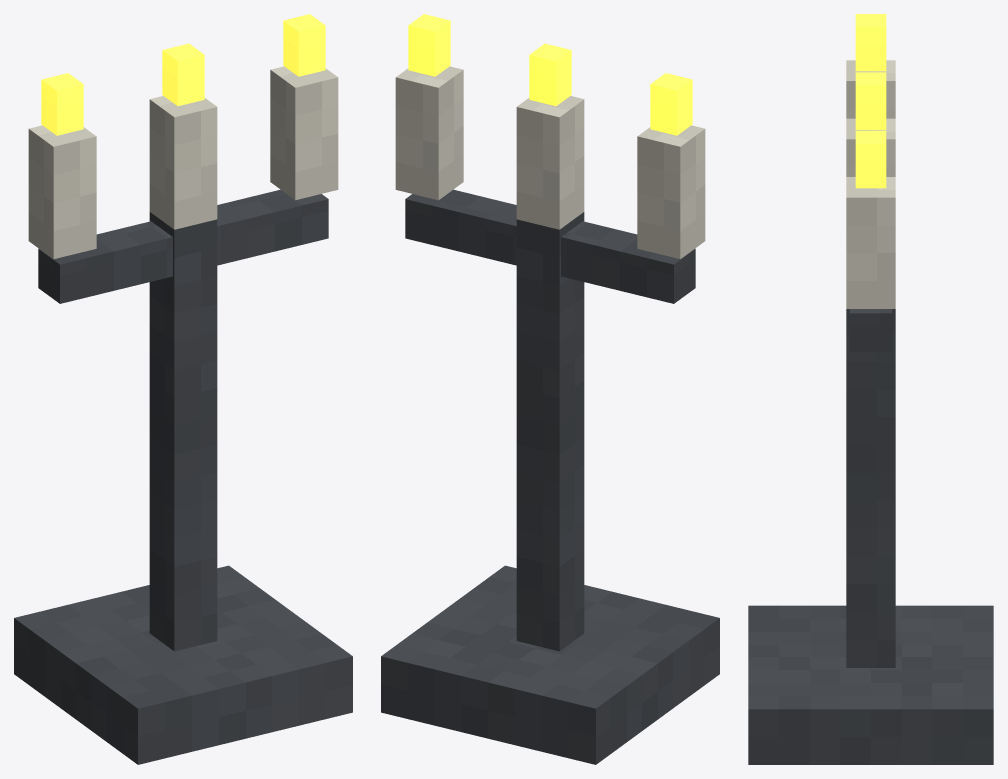
Rendered from bougeoir.glb.
The picture shows the model from 3 angles, left to right: view 1: azimuth 30°, elevation 25°; view 2: azimuth 150°, elevation 25°; view 3: azimuth 270°, elevation 25°; orthographic projection.
Visible parts, largest first — view 1: Bougeoir; view 2: Bougeoir; view 3: Bougeoir.
Boxes of the visible parts, x1=… form: Bougeoir: x1=14, y1=14, x2=352, y2=764; Bougeoir: x1=381, y1=14, x2=719, y2=764; Bougeoir: x1=748, y1=14, x2=993, y2=764.
Size of the model in its own units: 0.53 by 1.14 by 0.4.
3 materials, 3 textured.
